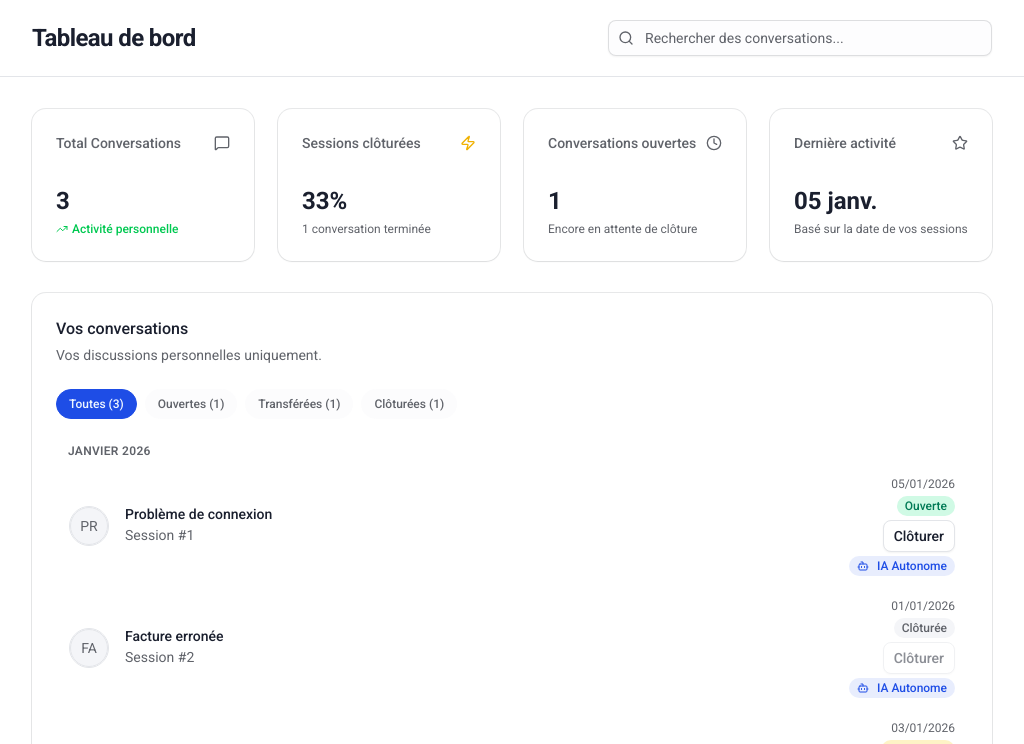
Scenario: UserDashboard › filters conversations by status
Check: the text "Problème de connexion" is shown, box [125,507,272,521]
Check: the button "Ouvertes (1)" is shown, box [145,389,237,419]
Click the button "Clôturées (1)" at [409, 404], box [361,389,457,419]
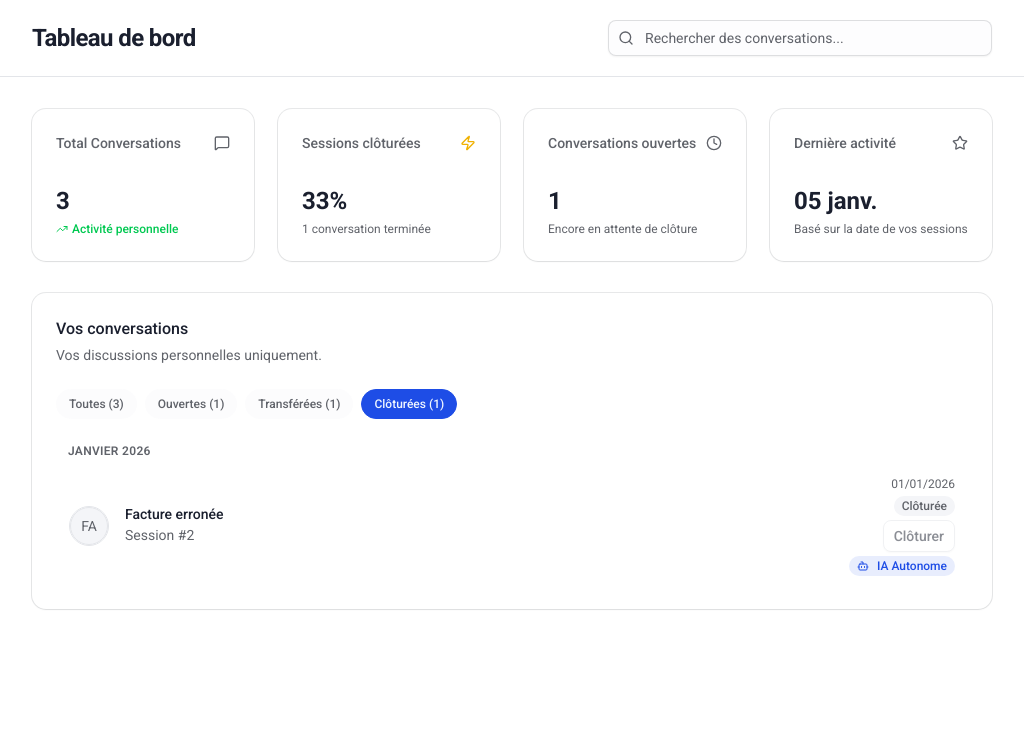
Check: the text "Facture erronée" is shown, box [125,507,224,521]
Check: the button "Problème de connexion" is gone
